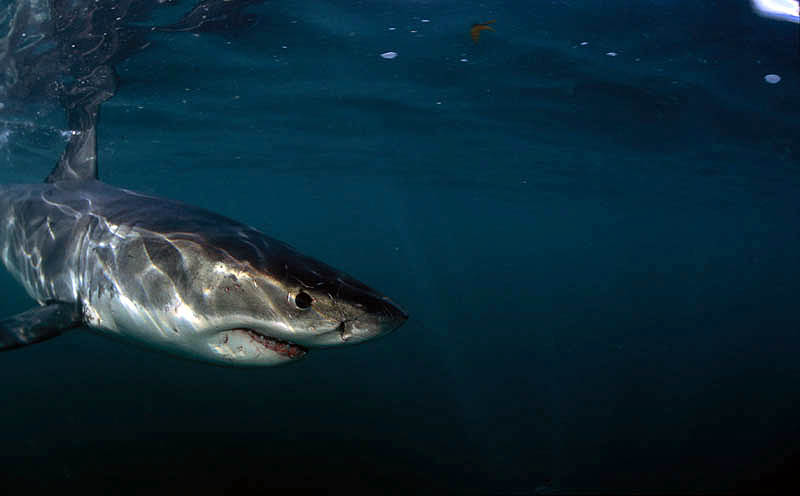Carcharodon_carcharias: (1, 166, 421, 375)
